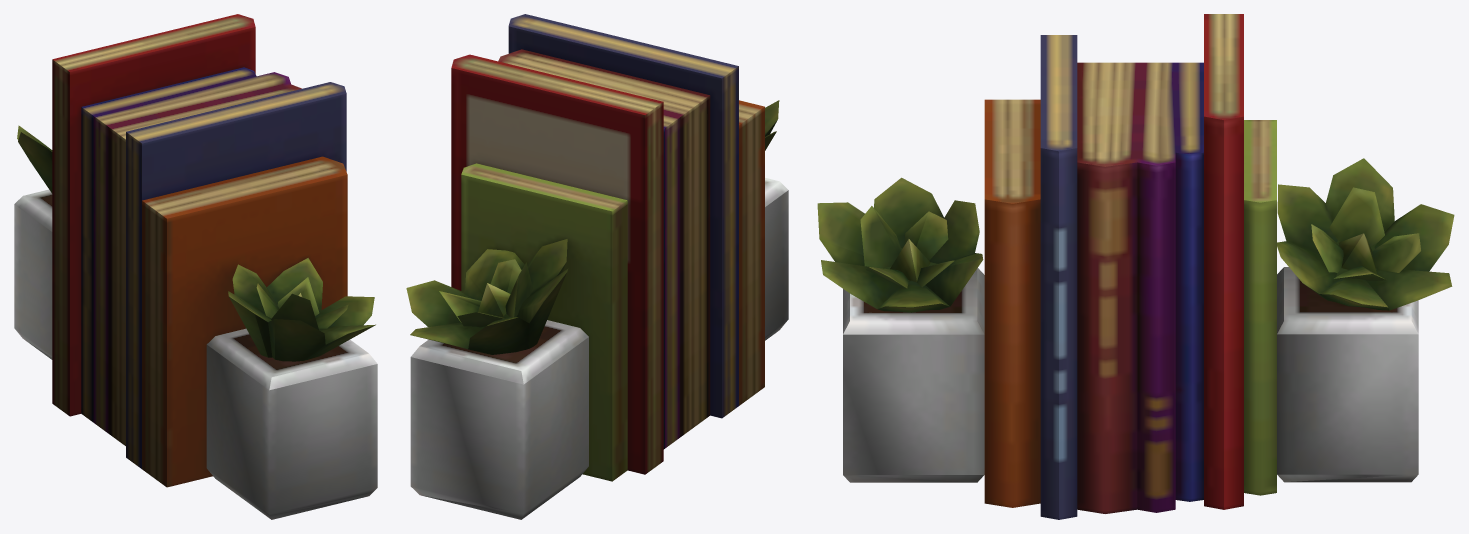
The model's file is BotanicalBookends.fbx.
3 renders of one model, left to right at view 1: azimuth 30°, elevation 25°; view 2: azimuth 150°, elevation 25°; view 3: azimuth 270°, elevation 25°, orthographic. The views are drawn at different scales.
Parts seen in each view (by area): view 1: TinyLiving_BotanicalBookends; view 2: TinyLiving_BotanicalBookends; view 3: TinyLiving_BotanicalBookends.
Part boxes in pixels (x1,y1,x2,y2): TinyLiving_BotanicalBookends: [14, 14, 377, 519]; TinyLiving_BotanicalBookends: [406, 14, 788, 519]; TinyLiving_BotanicalBookends: [817, 14, 1454, 519].
Size of the model in its own units: 19.95 by 31.18 by 46.2.
